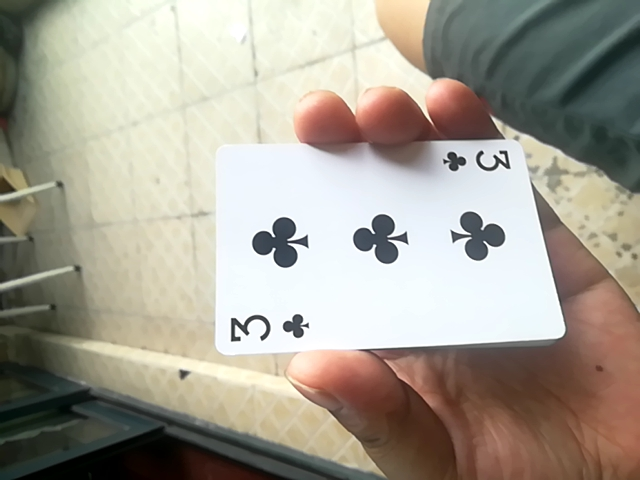mh 3: (207, 132, 556, 351)
